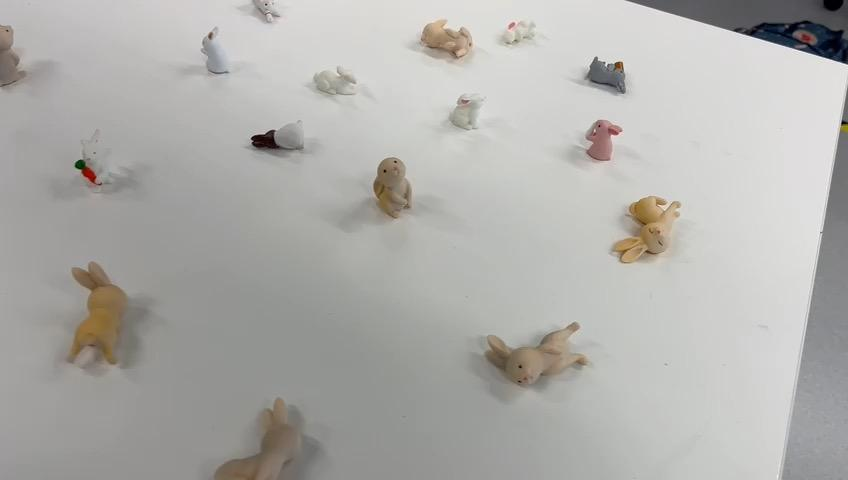pet: (208, 391, 306, 480), (480, 316, 593, 389), (65, 257, 136, 369), (608, 192, 689, 269), (70, 124, 116, 193), (371, 151, 417, 220), (419, 14, 480, 62), (581, 113, 628, 167), (248, 115, 309, 154), (0, 20, 32, 91), (585, 50, 632, 96), (445, 88, 491, 134), (196, 23, 235, 77), (307, 62, 362, 100), (500, 13, 541, 47), (246, 0, 284, 23)
